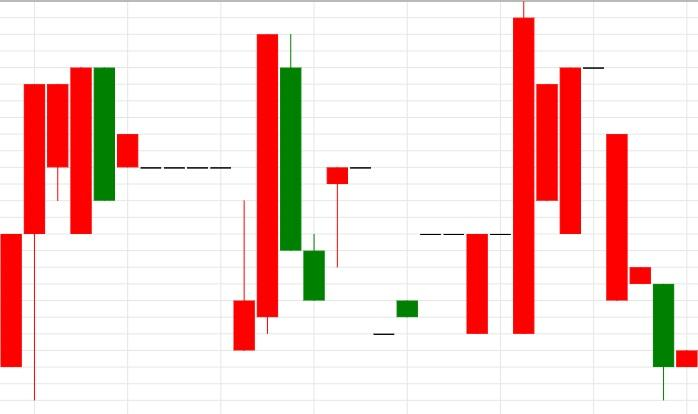inverse_hammer_rise: (70, 66, 256, 352)
